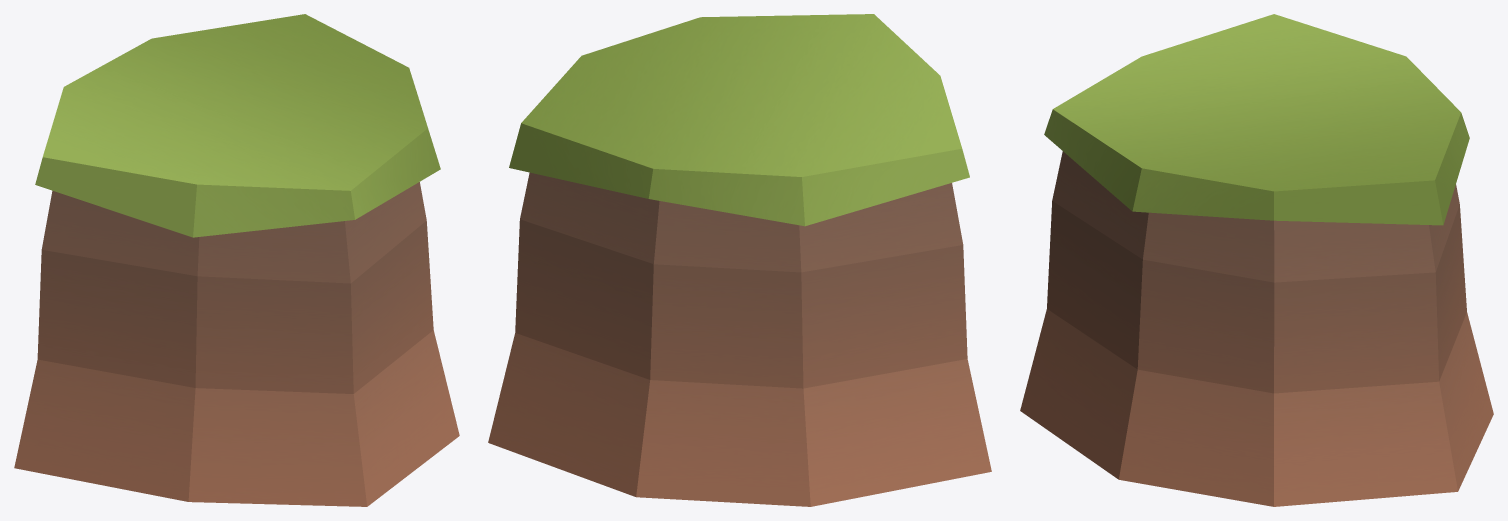
File: cliff4.fbx
The picture shows the model from 3 angles, left to right: view 1: azimuth 30°, elevation 25°; view 2: azimuth 150°, elevation 25°; view 3: azimuth 270°, elevation 25°; orthographic projection. The views are drawn at different scales.
Visible parts, largest first — view 1: clif4; view 2: clif4; view 3: clif4.
Boxes of the visible parts, bbox=[...] form: clif4: bbox=[14, 14, 459, 506]; clif4: bbox=[488, 14, 991, 506]; clif4: bbox=[1020, 14, 1493, 506].
Size of the model in its own units: 3.62 by 2.48 by 3.54.
